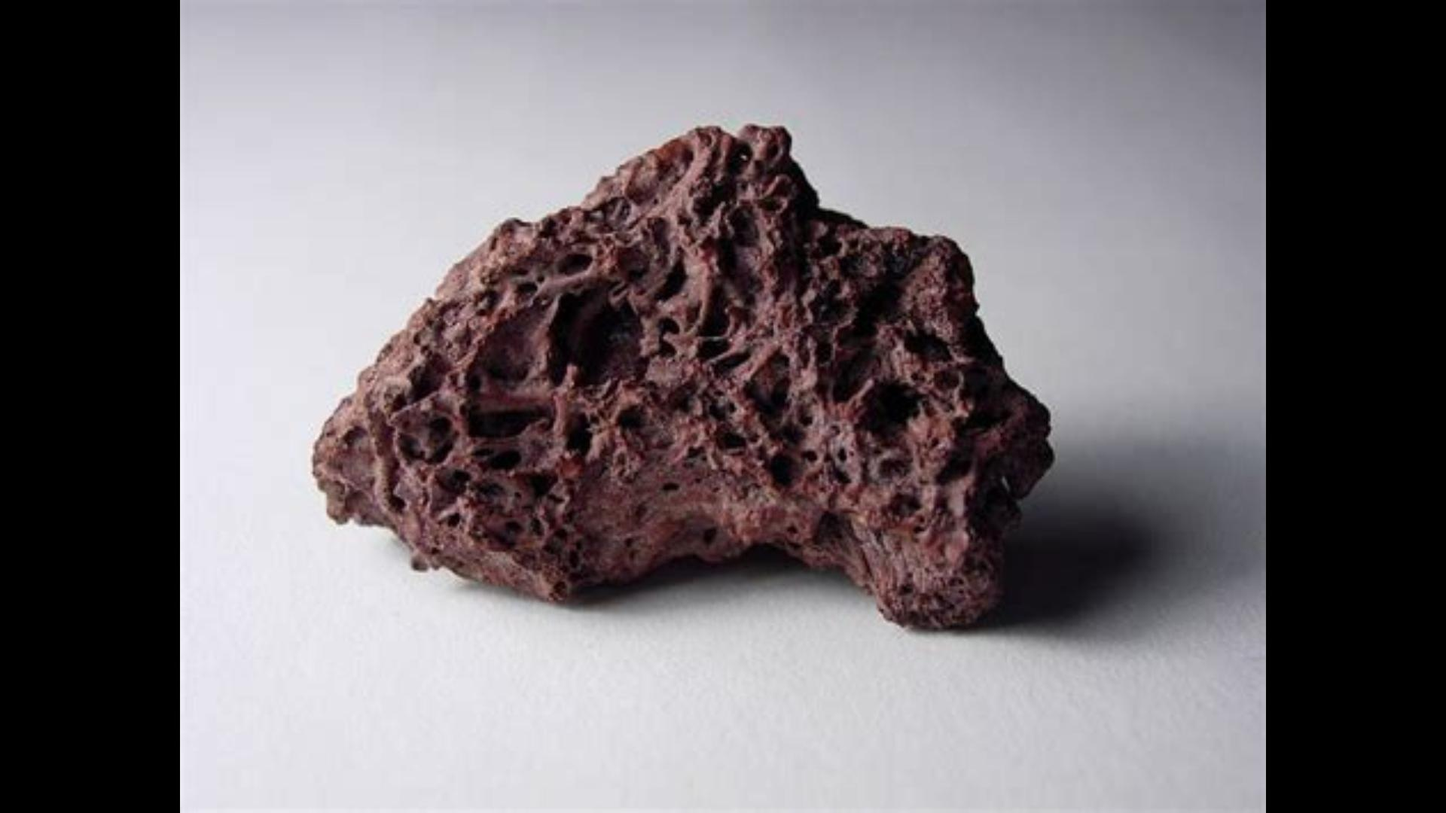rock: (313, 128, 1051, 625)
